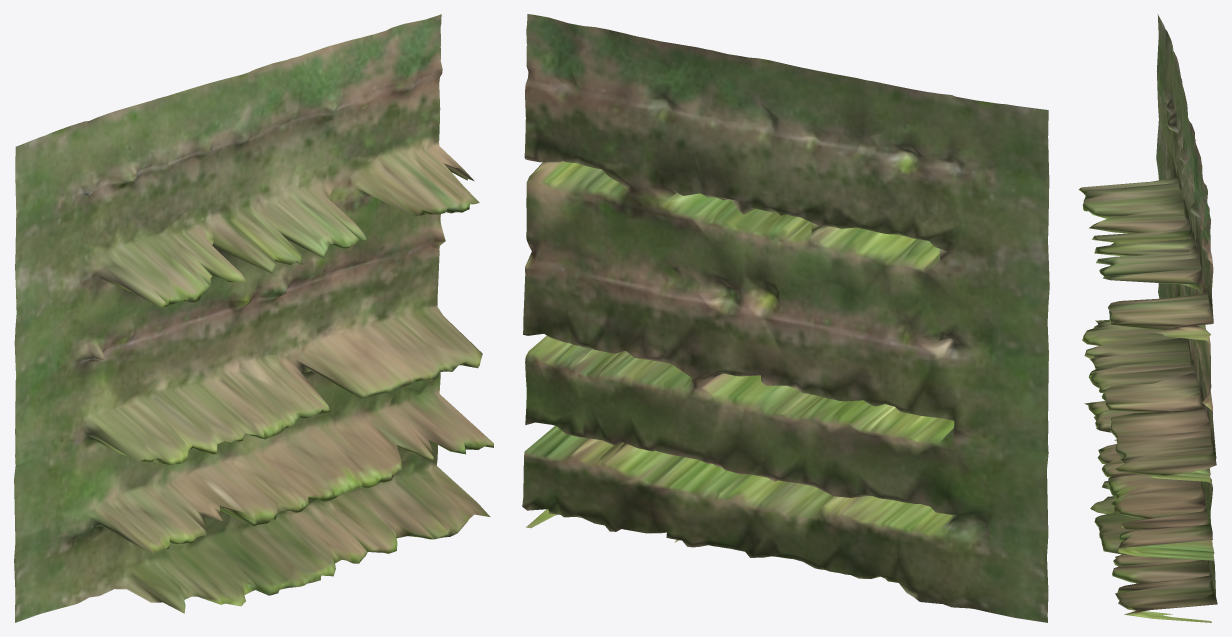
Rendered from map_210_90.obj.
3 views of the same model, side by side, from view 1: azimuth 30°, elevation 25°; view 2: azimuth 150°, elevation 25°; view 3: azimuth 270°, elevation 25° (orthographic). The views are drawn at different scales.
Visible parts, largest first — view 1: map_210_90.obj; view 2: map_210_90.obj; view 3: map_210_90.obj.
Part boxes in pixels (left/top/right/bottom): map_210_90.obj: left=14, top=14, right=493, bottom=622; map_210_90.obj: left=522, top=14, right=1049, bottom=622; map_210_90.obj: left=1078, top=14, right=1217, bottom=622.
Bounding box in the file's own units: 10 × 10 × 3.04.
1 material, 1 textured.
